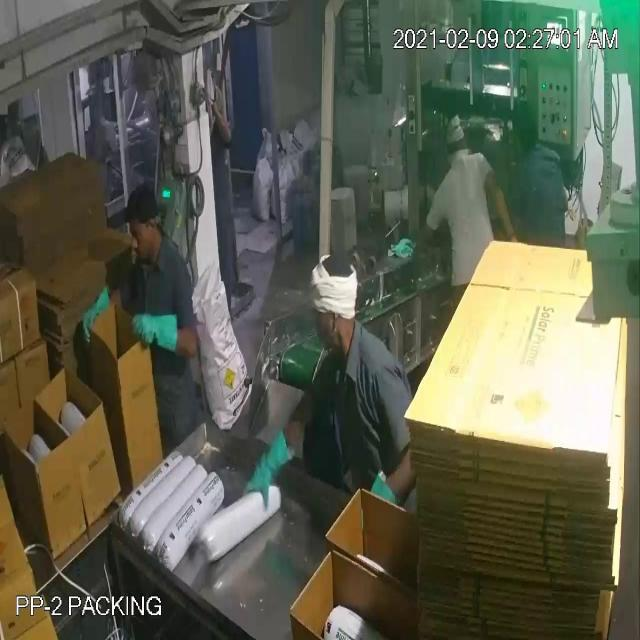Gloves: (35, 58, 268, 468)
